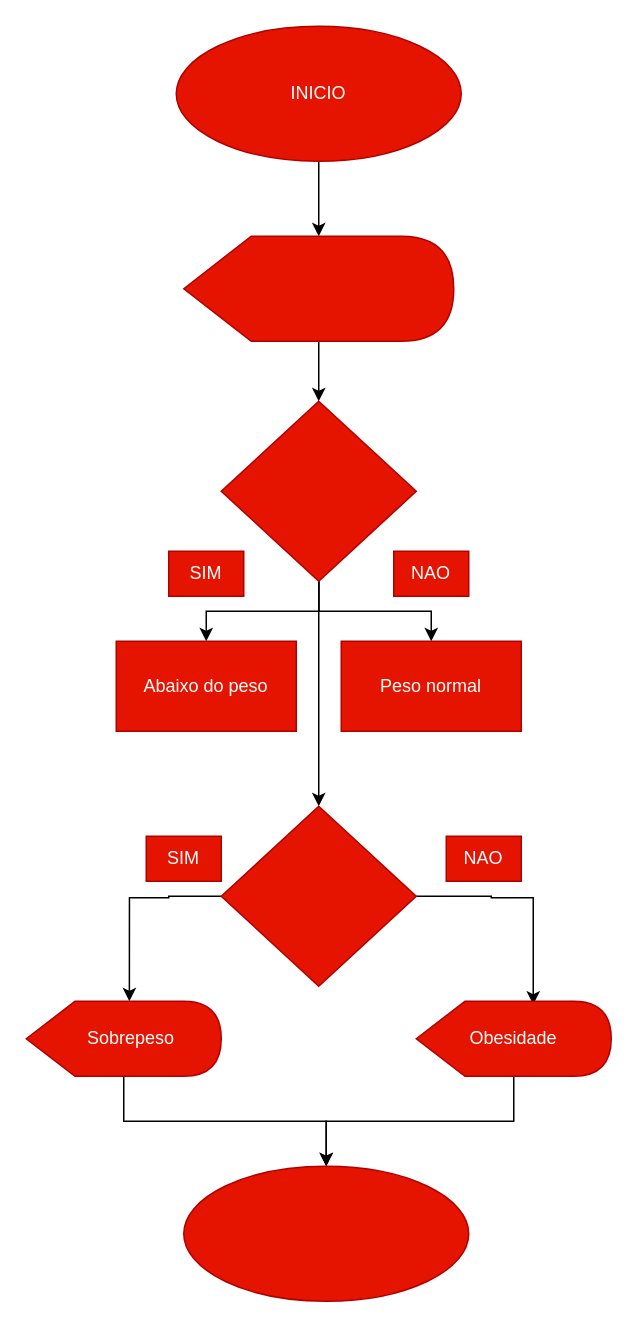
Image size: 638x1328. Some labels were removed from this diagram. Here are the shapes that lost their labels. From the top down, the box of each, then its label:
(182, 235, 454, 341): IMC = peso/(altura x altura)
(220, 400, 416, 581): IMC<25?
(220, 805, 416, 986): IMC<30?
(182, 1165, 469, 1301): FIM
